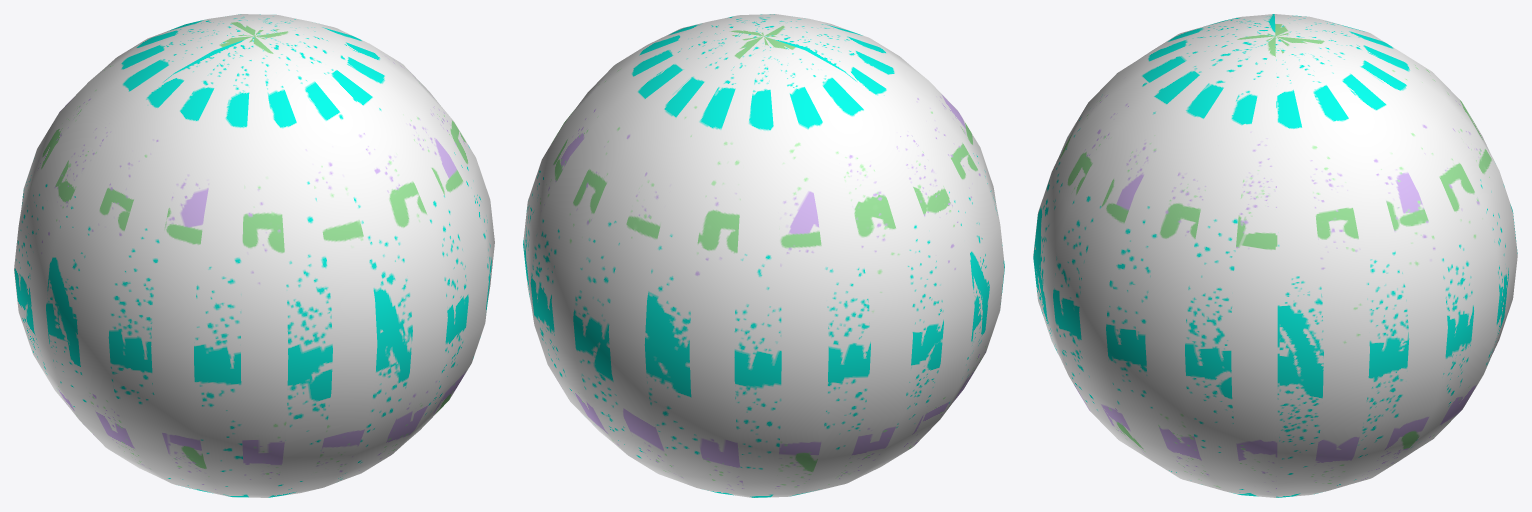
The model's file is Power.fbx.
3 renders of one model, left to right at view 1: azimuth 30°, elevation 25°; view 2: azimuth 150°, elevation 25°; view 3: azimuth 270°, elevation 25°, orthographic.
Visible parts, largest first — view 1: pSphere1, pSphere2; view 2: pSphere1, pSphere2; view 3: pSphere1, pSphere2.
Boxes of the visible parts, x1,y1,x2,y2 form: pSphere1: (14, 14, 494, 497); pSphere2: (14, 14, 491, 497); pSphere1: (527, 14, 1004, 497); pSphere2: (523, 14, 1004, 497); pSphere1: (1033, 14, 1517, 497); pSphere2: (1033, 14, 1517, 497).
Size of the model in its own units: 4 by 4 by 4.
